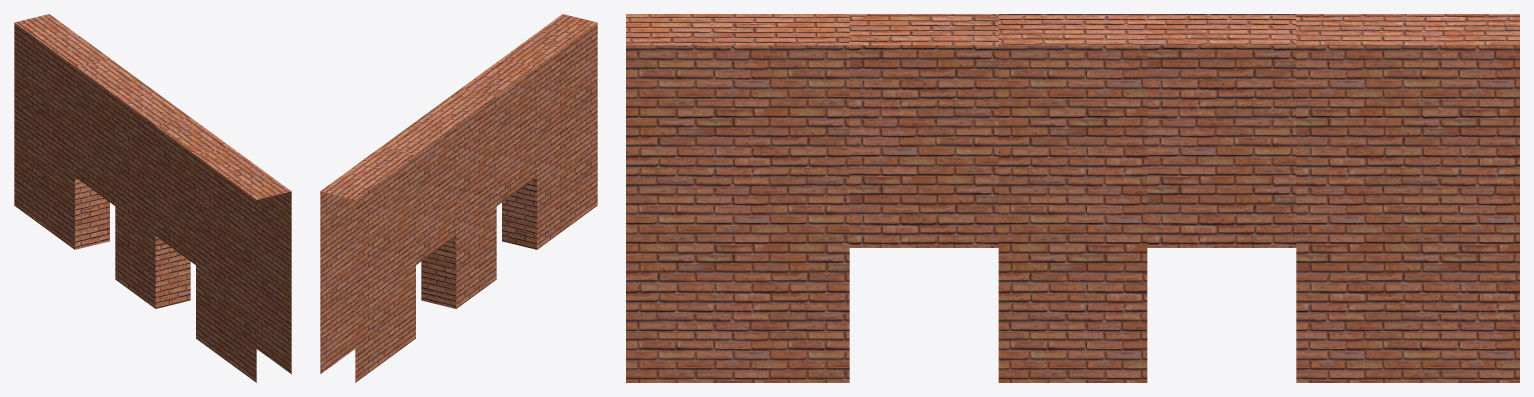
Rendered from WDNorthDoorMain.fbx.
3 renders of one model, left to right at view 1: azimuth 30°, elevation 25°; view 2: azimuth 150°, elevation 25°; view 3: azimuth 270°, elevation 25°, orthographic. The views are drawn at different scales.
Parts seen in each view (by area): view 1: Wall_Int_2_Door_North__3_; view 2: Wall_Int_2_Door_North__3_; view 3: Wall_Int_2_Door_North__3_.
Boxes of the visible parts, <box> form: Wall_Int_2_Door_North__3_: <box>14,14,291,382</box>; Wall_Int_2_Door_North__3_: <box>320,14,597,382</box>; Wall_Int_2_Door_North__3_: <box>626,14,1519,382</box>.
Size of the model in its own units: 1 by 5 by 12.
